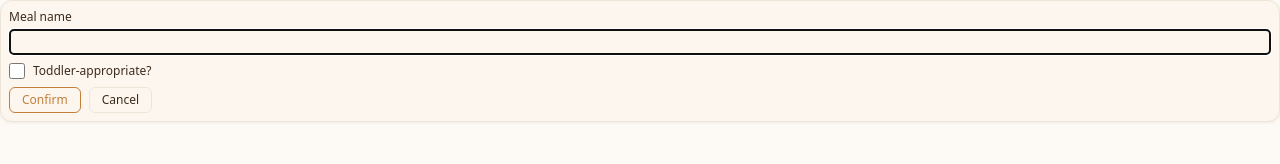
Test: MealSlotEditing › shows API error message when save fails
This screenshot has width=1280, height=164.
In the field labelled "Meal name": (640, 42) [9,29,1271,55], type "Rasam rice"
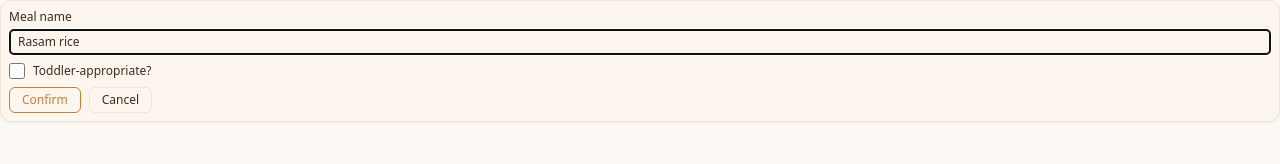
Click the button "Confirm": (45, 100) [9,87,81,113]
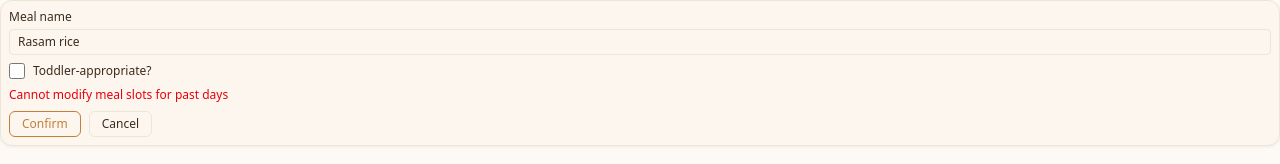
Result: the message reads "Cannot modify meal slots for past days" at [9,86,228,103]
